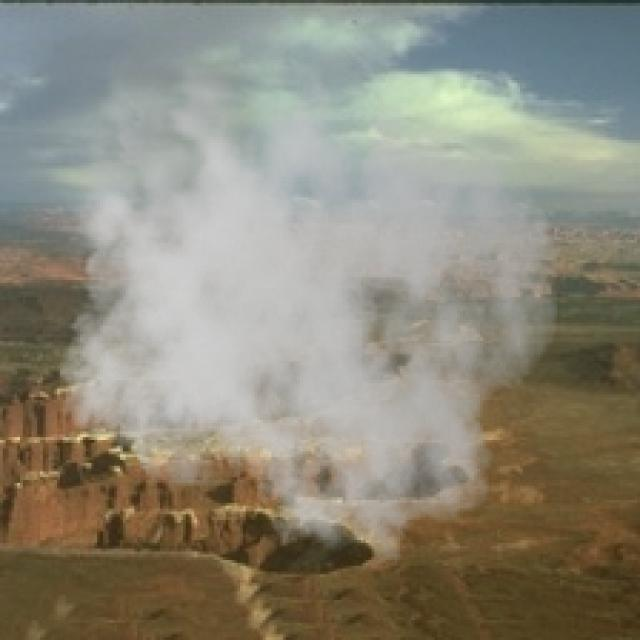Smoke: (43, 34, 560, 566)
